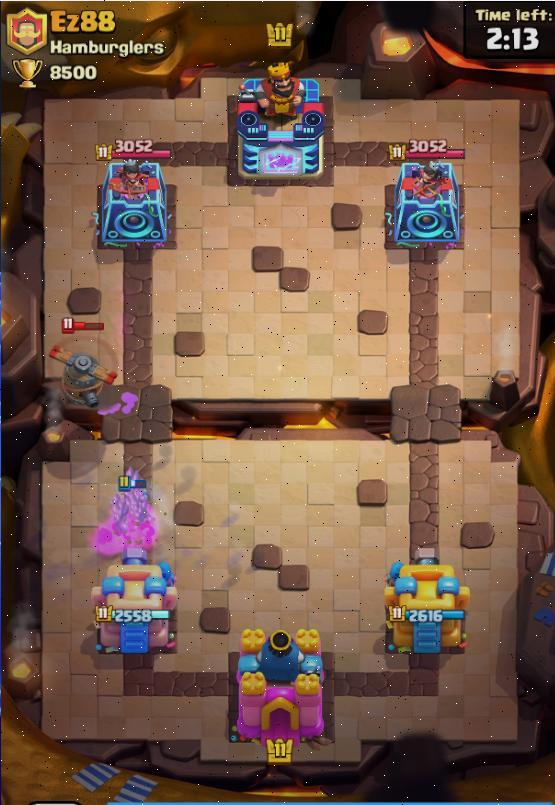EFlyingMachine: (41, 340, 118, 407)
EKingTower: (230, 68, 340, 174)
EnemyPrincessTower: (94, 137, 168, 243), (390, 141, 464, 247)
OCannoneerTower: (383, 544, 476, 654), (84, 550, 176, 660)
